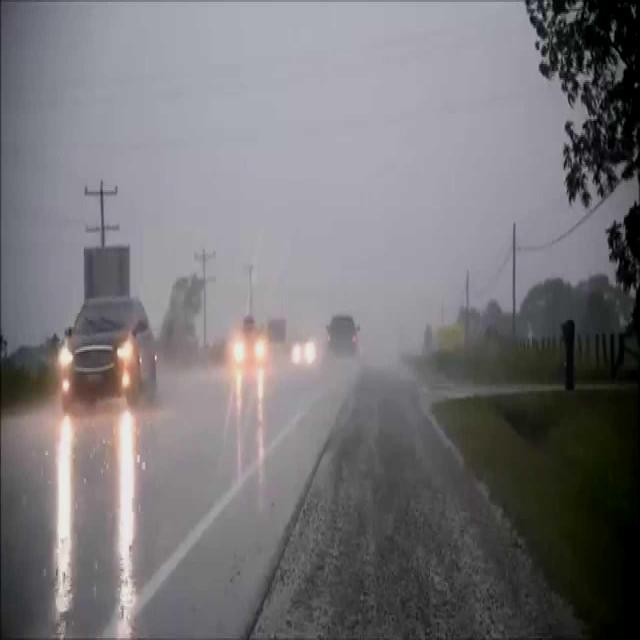Car: (57, 292, 160, 410), (322, 311, 360, 365), (232, 332, 270, 370), (290, 337, 314, 367)
